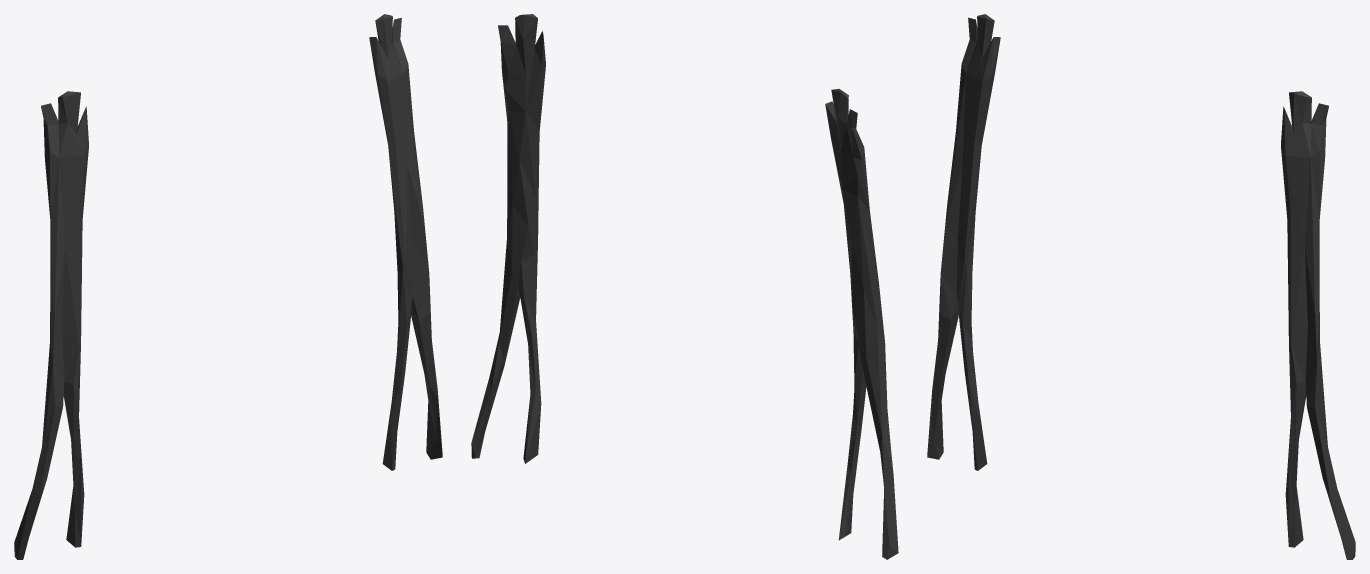
The model's file is lig_suspensory_HL.glb.
3 views of the same model, side by side, from view 1: azimuth 30°, elevation 25°; view 2: azimuth 150°, elevation 25°; view 3: azimuth 330°, elevation 25° (orthographic).
Parts seen in each view (by area): view 1: lig_suspensory_HL; view 2: lig_suspensory_HL; view 3: lig_suspensory_HL.
Part boxes in pixels (<box>): lig_suspensory_HL: <box>14,14,442,559</box>; lig_suspensory_HL: <box>471,14,898,559</box>; lig_suspensory_HL: <box>927,14,1355,559</box>.
Size of the model in its own units: 0.00523 by 0.00536 by 0.000481.
Materials: 1 (1 with a texture image).
